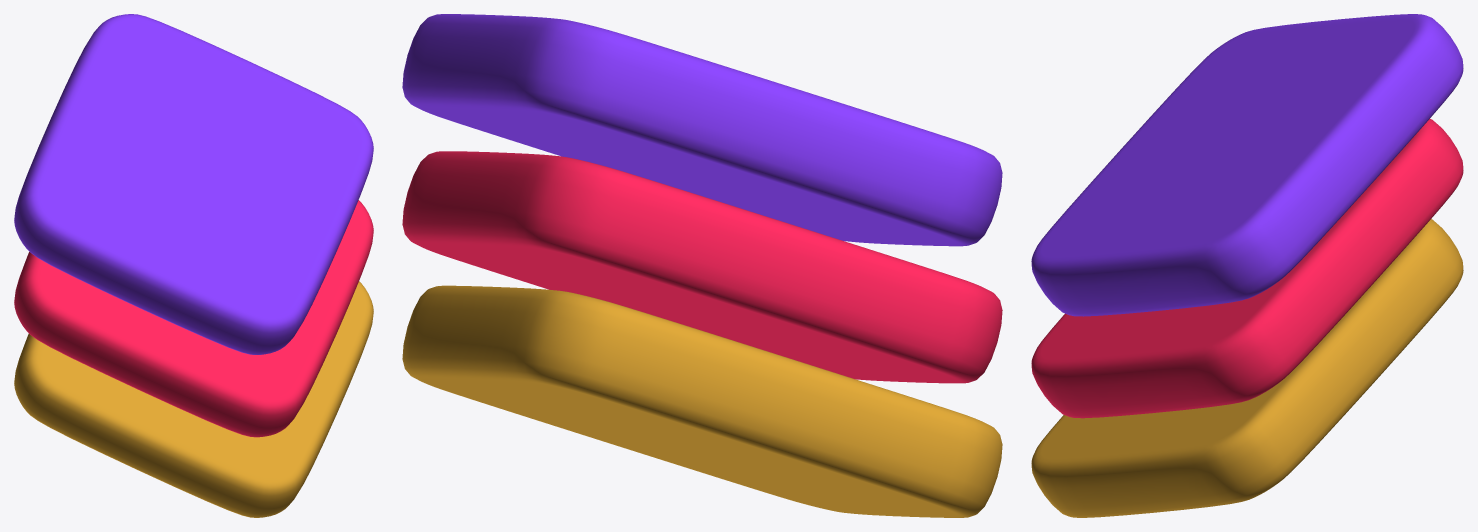
The picture shows the model from 3 angles, left to right: view 1: azimuth 30°, elevation 25°; view 2: azimuth 150°, elevation 25°; view 3: azimuth 270°, elevation 25°; orthographic projection. The views are drawn at different scales.
Visible parts, largest first — view 1: 11; view 2: 11; view 3: 11.
Boxes of the visible parts, x1,y1,x2,y2 form: 11: [14, 14, 373, 517]; 11: [402, 14, 1002, 517]; 11: [1031, 14, 1463, 517].
Size of the model in its own units: 7.44 by 8.14 by 6.54.
